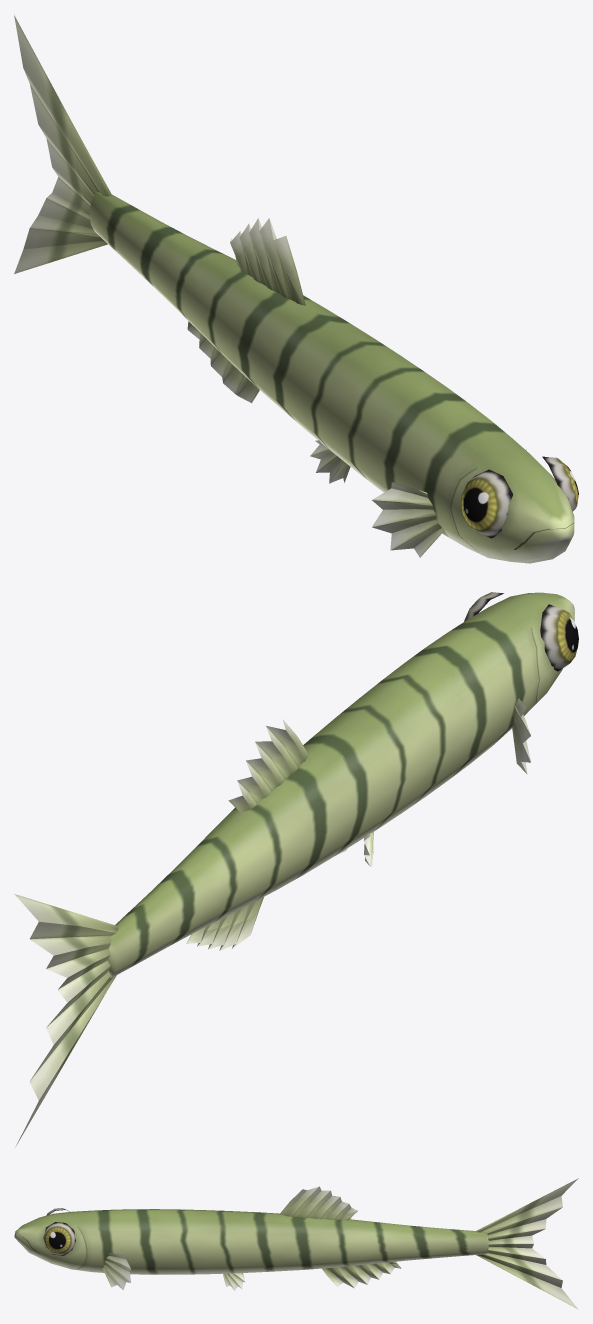
The model's file is reedling.glb.
3 renders of one model, top to bottom at view 1: azimuth 30°, elevation 25°; view 2: azimuth 150°, elevation 25°; view 3: azimuth 270°, elevation 25°, orthographic. The views are drawn at different scales.
Visible parts, largest first — view 1: reedling; view 2: reedling; view 3: reedling.
Part boxes in pixels (left/top/right/bottom): reedling: left=14, top=15, right=578, bottom=563; reedling: left=14, top=592, right=578, bottom=1147; reedling: left=14, top=1178, right=578, bottom=1309.
Bounding box in the file's own units: 0.1649 × 0.2575 × 1.
1 material, 1 textured.
